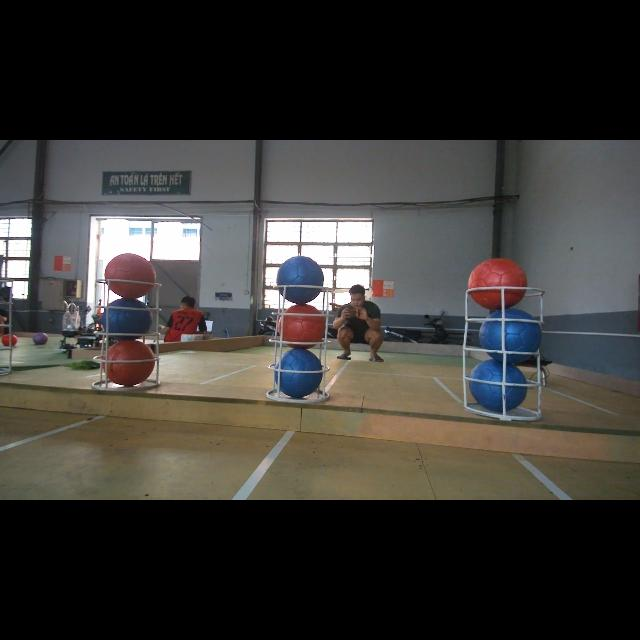B: (480, 310, 542, 364), (469, 359, 526, 411), (276, 349, 324, 398), (276, 256, 324, 304), (101, 298, 151, 340)
R: (468, 258, 526, 310), (102, 339, 156, 386), (104, 252, 156, 300), (278, 304, 326, 350)
